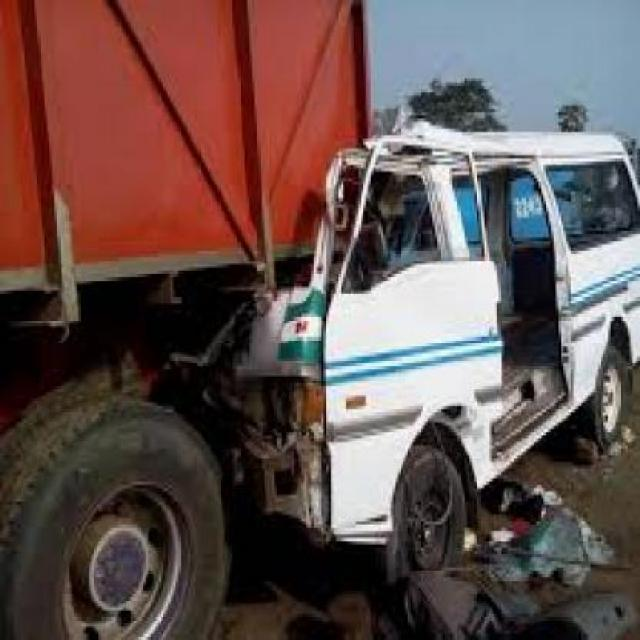accident: (209, 79, 640, 606)
